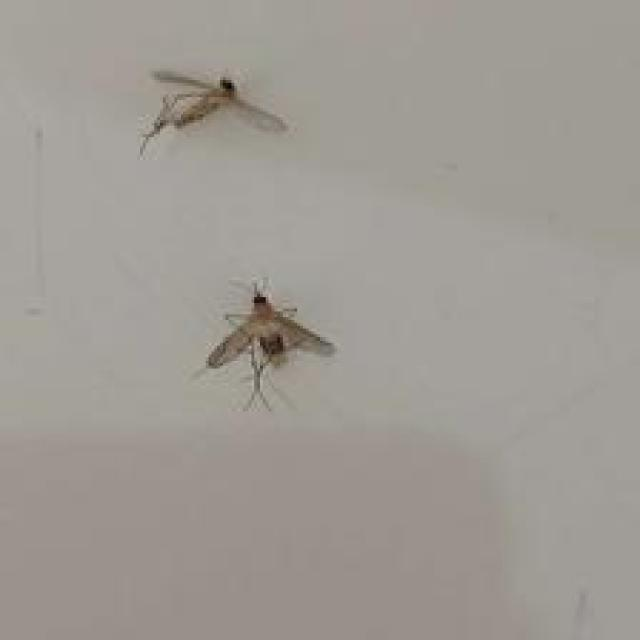Culex: (139, 67, 290, 156)
